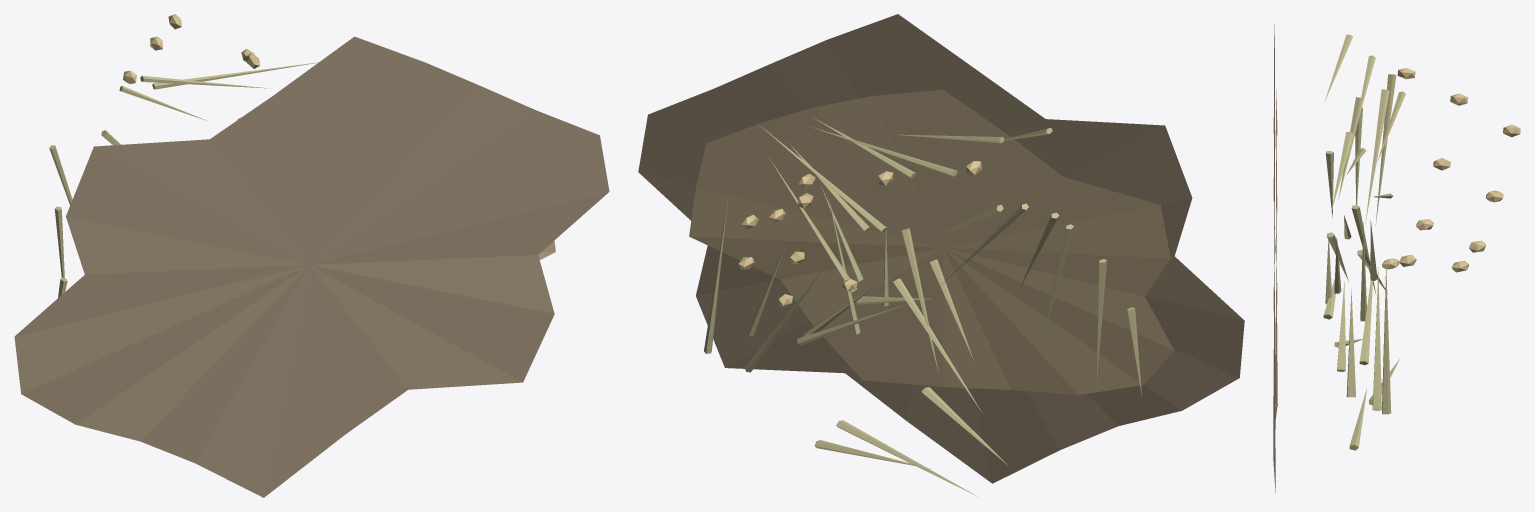
The model's file is reed-pocket.glb.
3 renders of one model, left to right at view 1: azimuth 30°, elevation 25°; view 2: azimuth 150°, elevation 25°; view 3: azimuth 270°, elevation 25°, orthographic. The views are drawn at different scales.
Parts seen in each view (by area): view 1: reed_soil_wash; view 2: reed_sand_lip, reed_soil_wash, reed_stalk_05, reed_stalk_26, reed_stalk_25, reed_stalk_19, reed_stalk_10, reed_stalk_15; view 3: reed_soil_wash, reed_stalk_26, reed_stalk_20, reed_stalk_04, reed_stalk_10, reed_stalk_23, reed_sand_lip, reed_stalk_14, reed_stalk_17, reed_stalk_03, reed_stalk_01, reed_stalk_13 (+7 smaller).
Boxes of the visible parts, x1=… form: reed_soil_wash: x1=14, y1=36, x2=609, y2=497; reed_sand_lip: x1=689, y1=89, x2=1174, y2=394; reed_soil_wash: x1=638, y1=14, x2=1244, y2=483; reed_stalk_05: x1=836, y1=420, x2=977, y2=496; reed_stalk_26: x1=704, y1=194, x2=728, y2=353; reed_stalk_25: x1=893, y1=278, x2=983, y2=414; reed_stalk_19: x1=902, y1=228, x2=938, y2=373; reed_stalk_10: x1=1037, y1=224, x2=1073, y2=363; reed_stalk_15: x1=759, y1=125, x2=886, y2=232; reed_soil_wash: x1=1273, y1=23, x2=1275, y2=493; reed_stalk_26: x1=1382, y1=264, x2=1391, y2=414; reed_stalk_20: x1=1372, y1=267, x2=1381, y2=410; reed_stalk_04: x1=1365, y1=89, x2=1389, y2=223; reed_stalk_10: x1=1375, y1=74, x2=1396, y2=225; reed_stalk_23: x1=1346, y1=289, x2=1355, y2=397; reed_sand_lip: x1=1275, y1=89, x2=1277, y2=421; reed_stalk_14: x1=1359, y1=280, x2=1372, y2=364; reed_stalk_17: x1=1337, y1=281, x2=1345, y2=371; reed_stalk_03: x1=1360, y1=222, x2=1366, y2=321; reed_stalk_01: x1=1331, y1=132, x2=1353, y2=211; reed_stalk_13: x1=1355, y1=107, x2=1362, y2=204.
Bounding box in the file's own units: 4.03 × 2.84 × 1.66.
